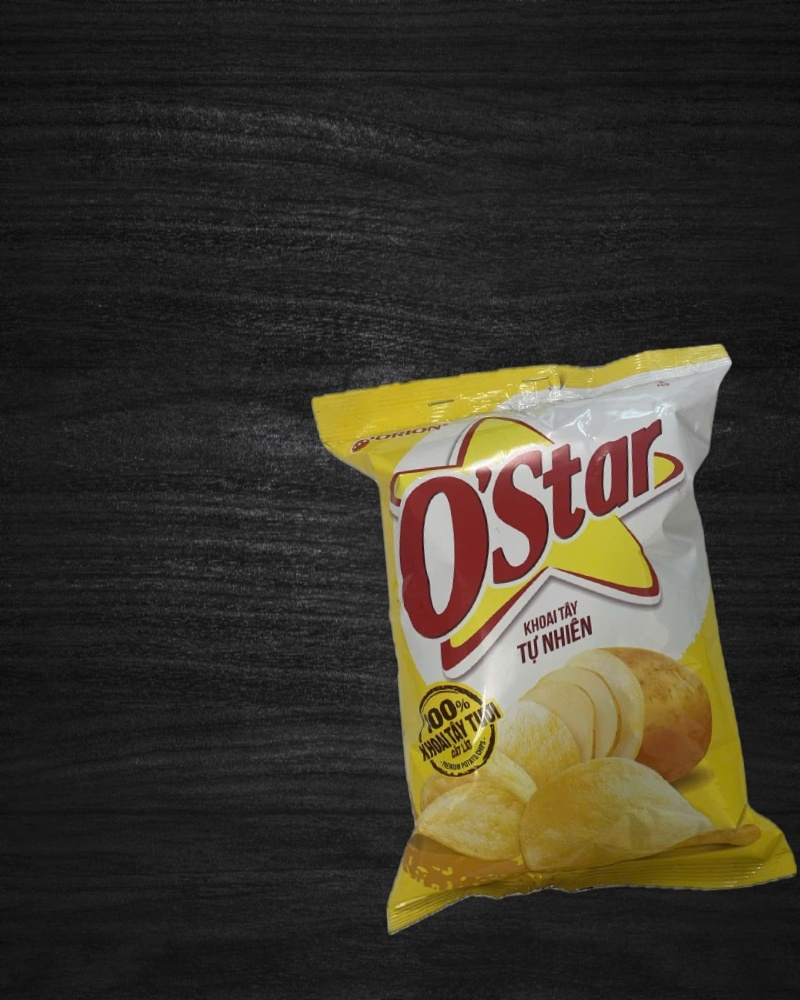O'star: (311, 341, 800, 938)
